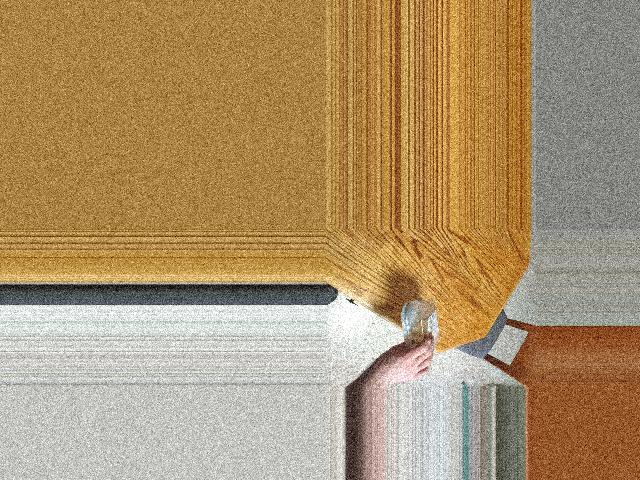cheese: (377, 299, 451, 353)
